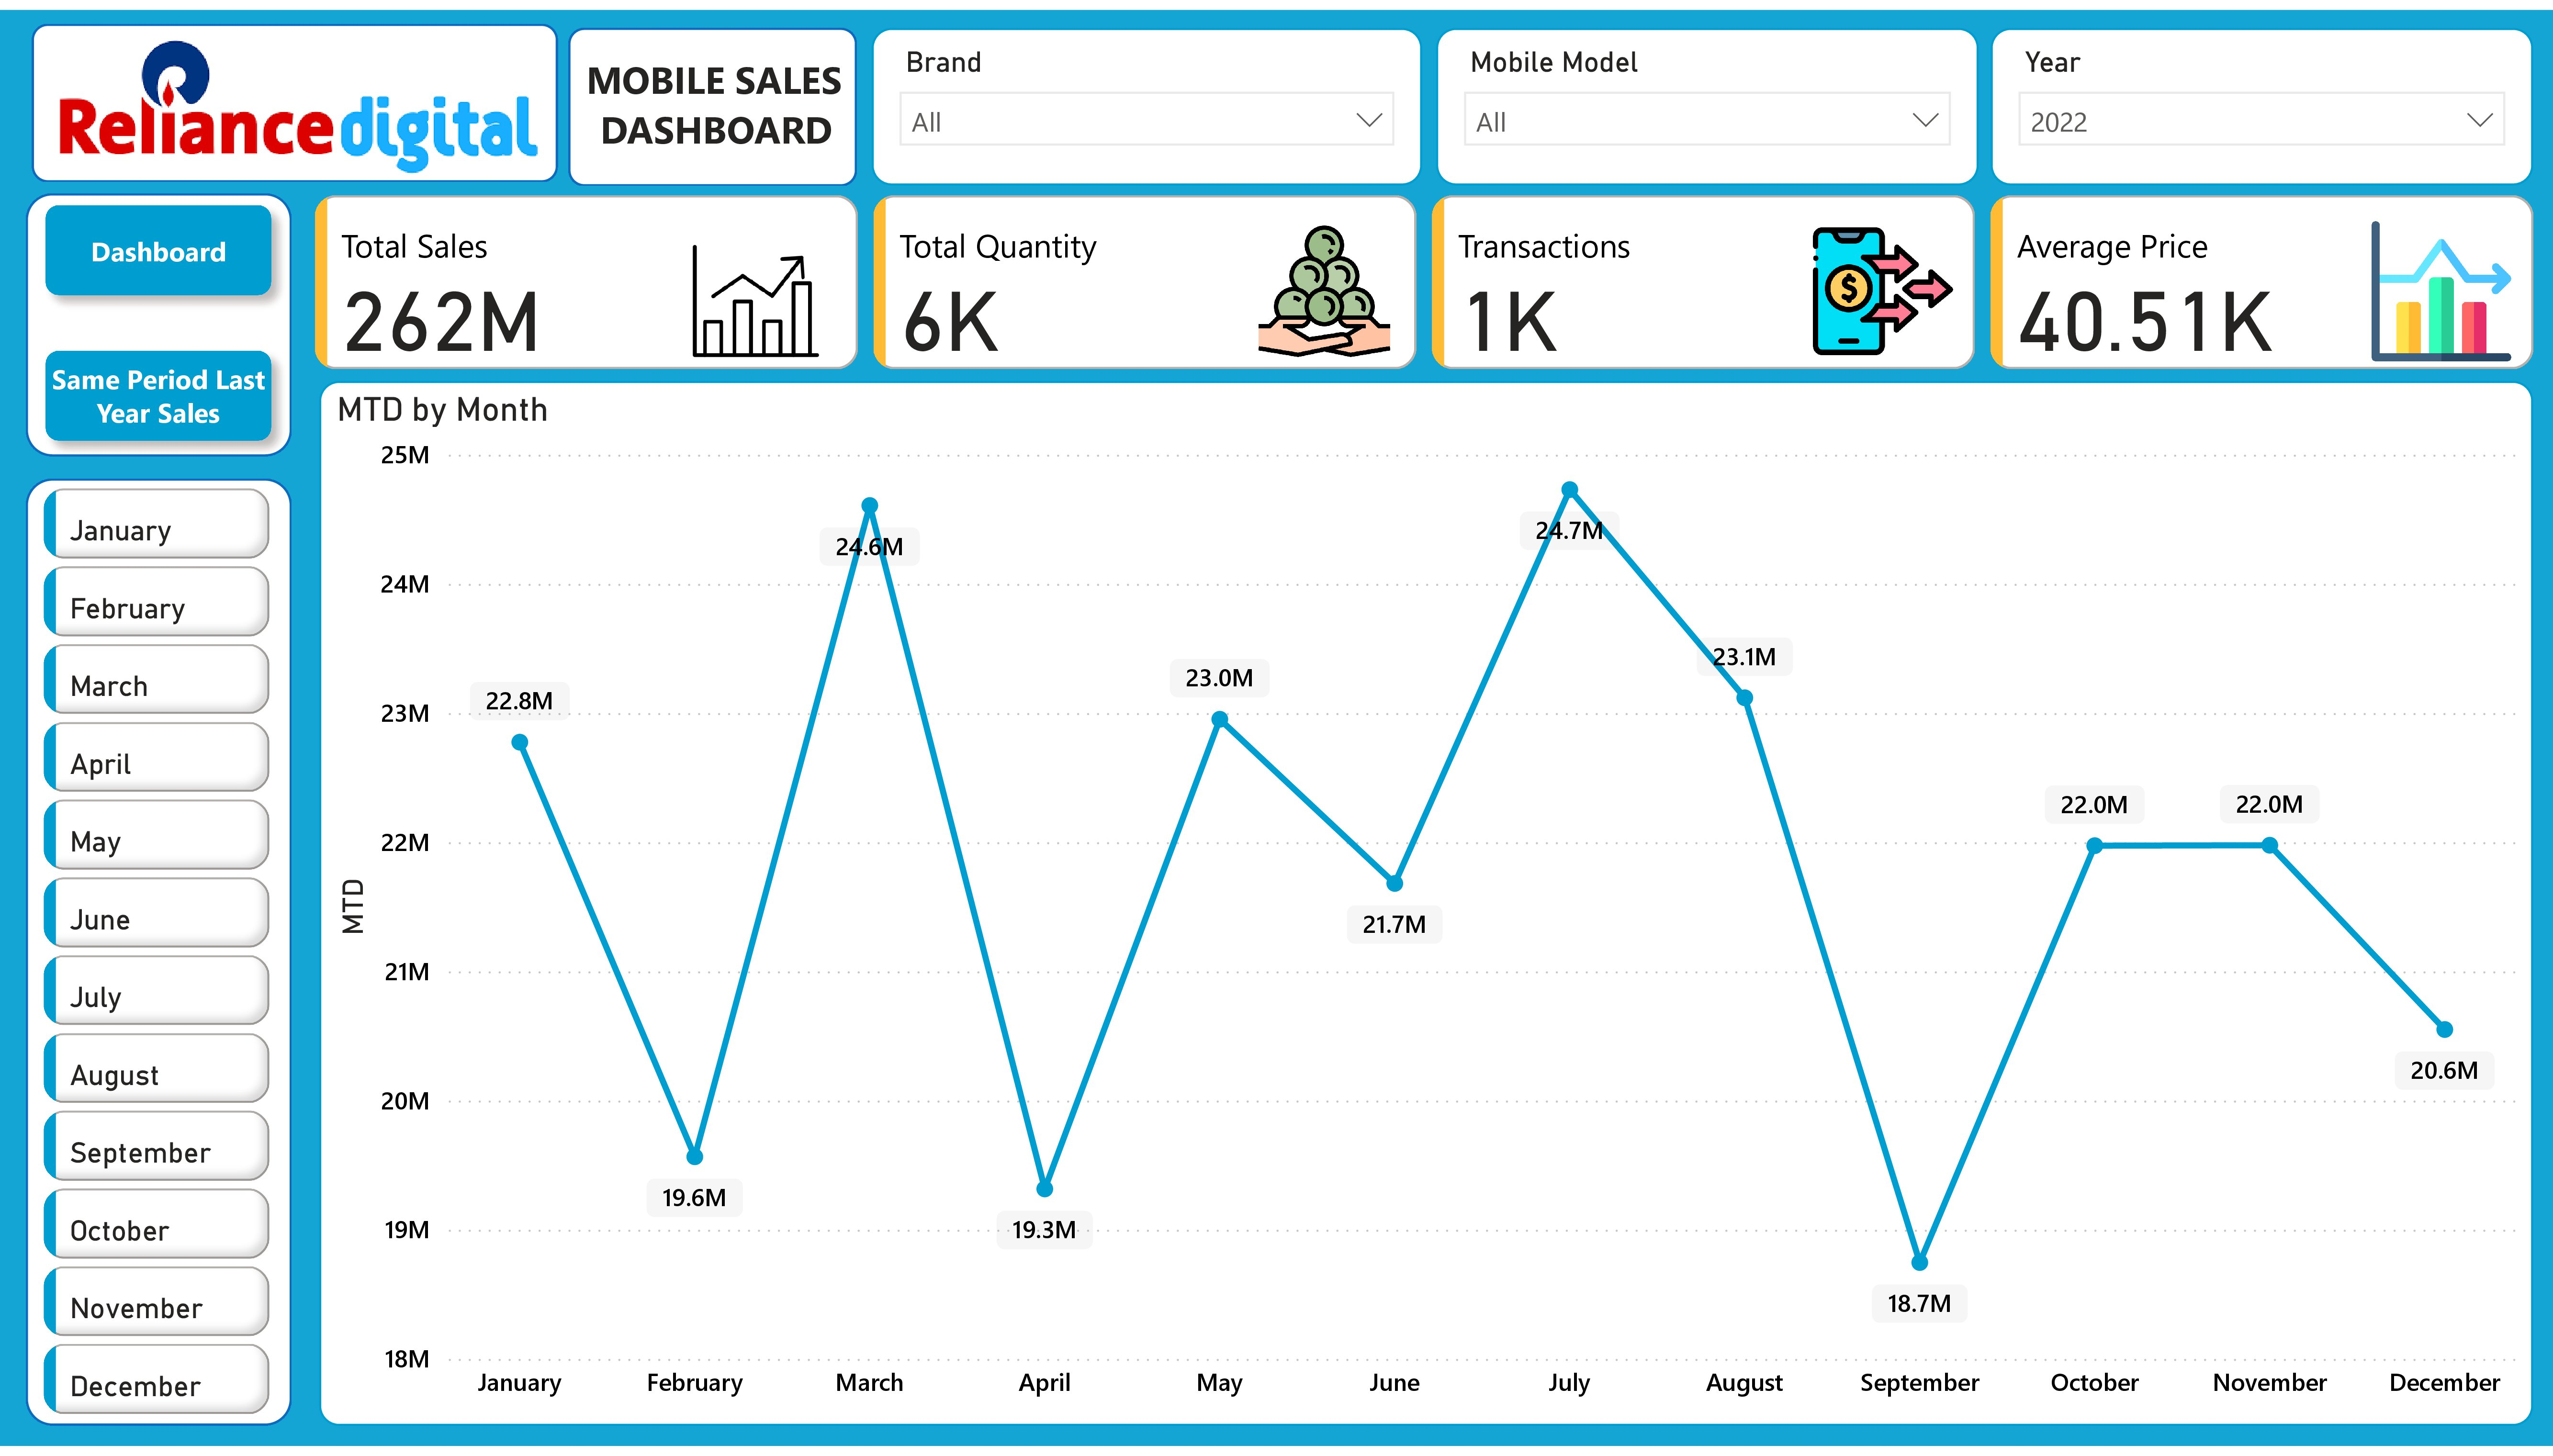

What the dashboard file says about the page in this screenshot:
{"tool":"powerbi","page":{"name":"MTD Report","canvas":[1280,720],"ordinal":1},"visuals":[{"type":"shape","box":[12.8,92.1,133.2,131.8],"z":0},{"type":"shape","box":[12.8,235.3,133.2,474.8],"z":1000},{"type":"cardVisual","fields":{"Data":["Sales Data.Total_sales","Sales Data.Total_Quantity","Sales Data.Transactions","Sales Data.Average_price"]},"box":[153.1,87.9,1122.5,97.8],"z":2000},{"type":"slicer","fields":{"Values":["Sales Data.Brand"]},"box":[436.5,8.5,276.4,79.4],"z":3000},{"type":"slicer","fields":{"Values":["Sales Data.Mobile Model"]},"box":[720,8.5,272.1,79.4],"z":4000},{"type":"slicer","fields":{"Values":["Custom_calender.Date.Variation.Date Hierarchy.Year"]},"box":[997.8,8.5,272.1,79.4],"z":5000},{"type":"lineChart","fields":{"Category":["Custom_calender.Date.Variation.Date Hierarchy.Year","Custom_calender.Date.Variation.Date Hierarchy.Quarter","Custom_calender.Date.Variation.Date Hierarchy.Month","Custom_calender.Date.Variation.Date Hierarchy.Day"],"Y":["Sales Data.MTD"]},"box":[160.2,185.7,1109.8,524.4],"z":6000},{"type":"advancedSlicerVisual","fields":{"Values":["Custom_calender.Date.Variation.Date Hierarchy.Month"]},"box":[17,235.3,123.3,484.7],"z":7000},{"type":"pageNavigator","box":[14.2,89.3,131.8,137.5],"z":8000},{"type":"shape","box":[284.9,8.5,144.6,79.4],"z":9000},{"type":"shape","box":[15.6,7.1,263.6,79.4],"z":10000},{"type":"textbox","box":[289.1,17,140.3,89.3],"z":11000},{"type":"image","box":[22.7,8.5,253.7,78],"z":12000}]}

Visuals, with their boxes in screenshot pixels (x1, y1, x2, y2), scaled from the page's 1280x720 canvas onto the 2553x1456 screenshot:
shape: [left=25, top=186, right=291, bottom=453]
shape: [left=25, top=476, right=291, bottom=1436]
cardVisual - Sales Data.Total_sales x Sales Data.Total_Quantity: [left=305, top=178, right=2544, bottom=376]
slicer - Sales Data.Brand: [left=871, top=17, right=1422, bottom=178]
slicer - Sales Data.Mobile Model: [left=1436, top=17, right=1979, bottom=178]
slicer - Custom_calender.Date.Variation.Date Hierarchy.Year: [left=1990, top=17, right=2533, bottom=178]
lineChart - Custom_calender.Date.Variation.Date Hierarchy.Year x Custom_calender.Date.Variation.Date Hierarchy.Quarter: [left=319, top=376, right=2533, bottom=1436]
advancedSlicerVisual - Custom_calender.Date.Variation.Date Hierarchy.Month: [left=34, top=476, right=280, bottom=1456]
pageNavigator: [left=28, top=180, right=291, bottom=459]
shape: [left=568, top=17, right=856, bottom=178]
shape: [left=31, top=14, right=557, bottom=175]
textbox: [left=577, top=34, right=856, bottom=215]
image: [left=45, top=17, right=551, bottom=175]
